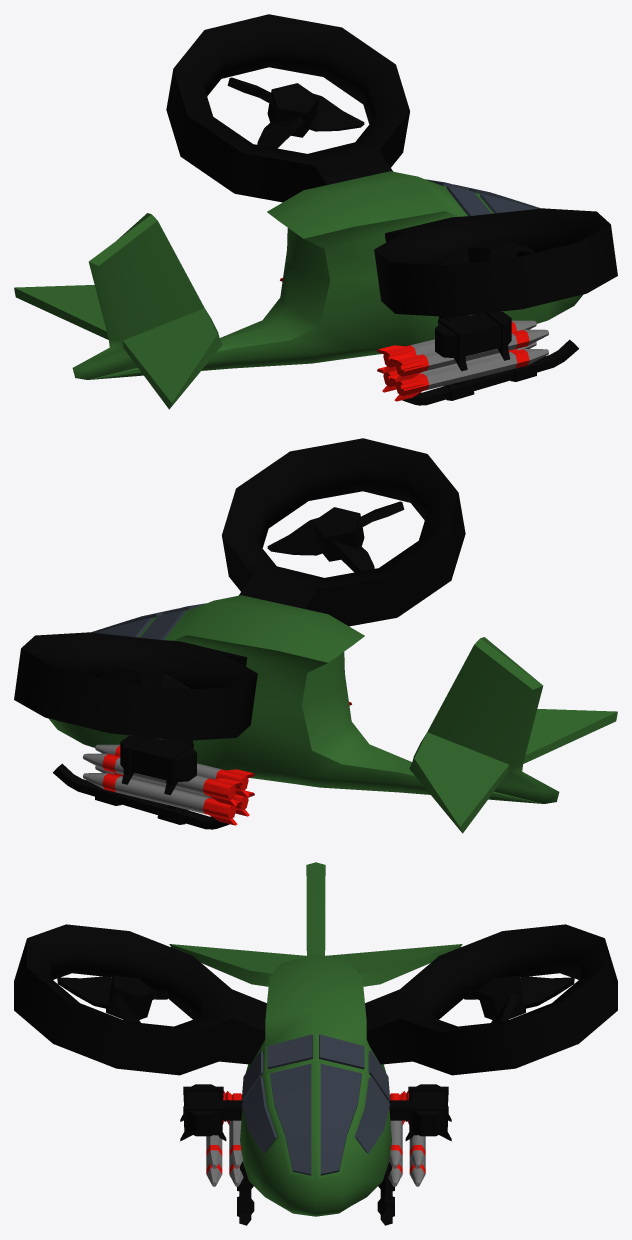
The model's file is Helicopter with missiles_w.fbx.
3 views of the same model, one above another, from view 1: azimuth 30°, elevation 25°; view 2: azimuth 150°, elevation 25°; view 3: azimuth 270°, elevation 25° (orthographic). The views are drawn at different scales.
Parts seen in each view (by area): view 1: helicopter plane.001, blades.004, blades.001, helicopter plane.004, blades.003, helicopter plane, blades.002; view 2: helicopter plane.001, blades.001, blades.004, rocket launcher, blades.002, helicopter plane, blades.003; view 3: helicopter plane.001, blades.004, blades.001, rocket launcher, helicopter plane.004, blades.003, blades.002, helicopter plane.
Boxes of the visible parts, x1,y1,x2,y2 form: helicopter plane.001: [14, 171, 583, 409]; blades.004: [166, 14, 409, 202]; blades.001: [374, 208, 617, 316]; helicopter plane.004: [377, 311, 548, 401]; blades.003: [227, 77, 364, 148]; helicopter plane: [402, 339, 578, 405]; blades.002: [441, 237, 535, 265]; helicopter plane.001: [48, 595, 617, 833]; blades.001: [222, 438, 465, 626]; blades.004: [14, 632, 257, 740]; rocket launcher: [83, 735, 254, 825]; blades.002: [267, 501, 404, 572]; helicopter plane: [53, 763, 229, 829]; blades.003: [96, 661, 190, 689]; helicopter plane.001: [169, 862, 462, 1216]; blades.004: [365, 924, 617, 1075]; blades.001: [14, 924, 266, 1075]; rocket launcher: [388, 1084, 451, 1186]; helicopter plane.004: [180, 1084, 243, 1186]; blades.003: [463, 975, 574, 1022]; blades.002: [57, 975, 168, 1022]; helicopter plane: [237, 1161, 394, 1225].
Bounding box in the file's own units: 413 × 187 × 457.
